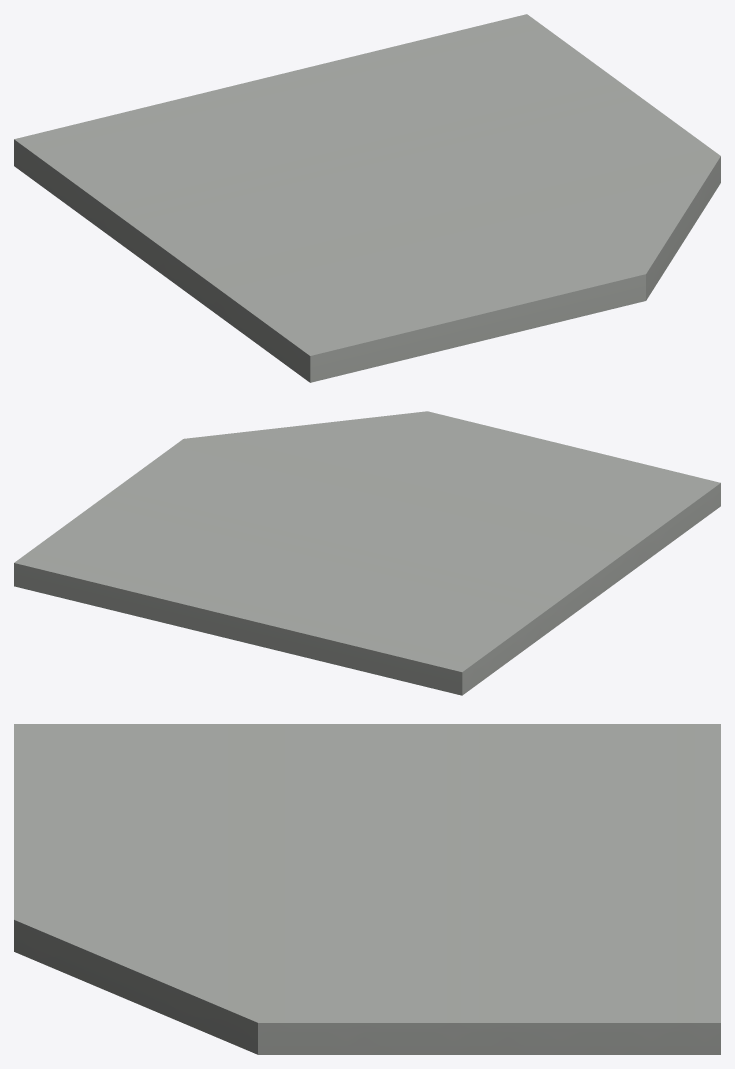
The model's file is Walkway_corner_B.fbx.
3 renders of one model, top to bottom at view 1: azimuth 30°, elevation 25°; view 2: azimuth 150°, elevation 25°; view 3: azimuth 270°, elevation 25°, orthographic. The views are drawn at different scales.
Visible parts, largest first — view 1: Walkway_corner_B; view 2: Walkway_corner_B; view 3: Walkway_corner_B.
Part boxes in pixels (<box>): Walkway_corner_B: <box>14,14,720,382</box>; Walkway_corner_B: <box>14,411,720,695</box>; Walkway_corner_B: <box>14,724,720,1054</box>.
Bounding box in the file's own units: 200 × 10 × 200.
